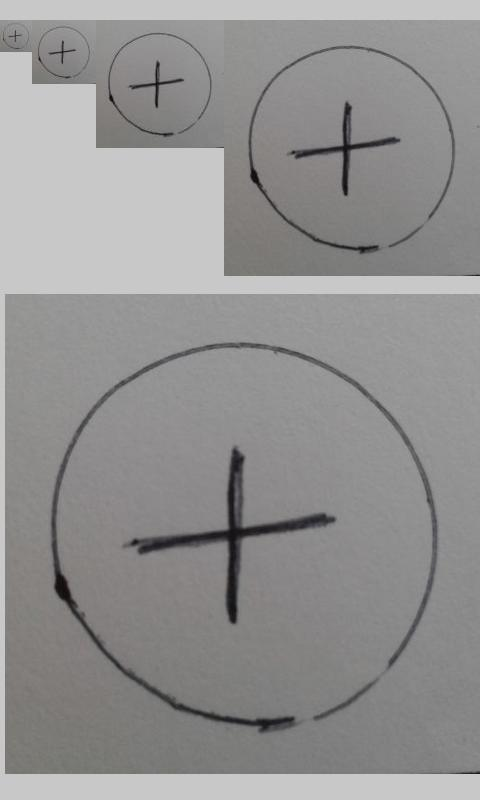button: (47, 339, 442, 730), (247, 45, 456, 254), (107, 32, 213, 136), (37, 25, 91, 79), (2, 22, 30, 50)
